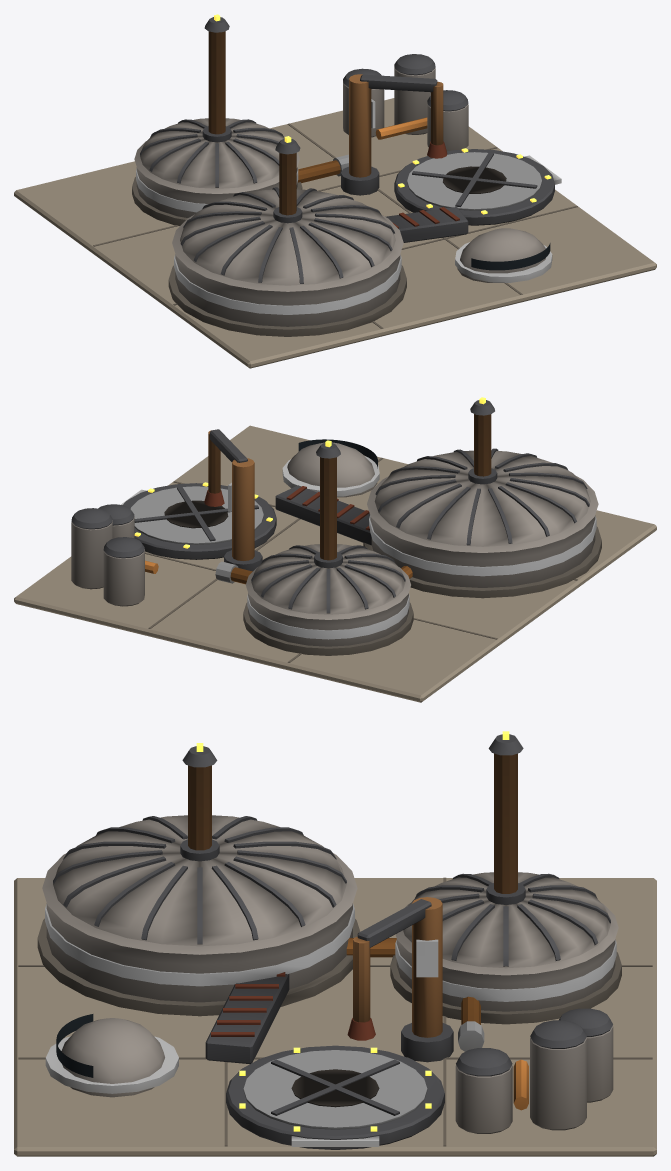
Rendered from HARKONNEN_REFINERY.glb.
3 views of the same model, one above another, from view 1: azimuth 30°, elevation 25°; view 2: azimuth 150°, elevation 25°; view 3: azimuth 270°, elevation 25° (orthographic). The views are drawn at different scales.
Parts seen in each view (by area): view 1: base, tank_main, tank_north, plant, pad, crane; view 2: base, tank_main, tank_north, plant, pad, crane; view 3: base, tank_main, plant, tank_north, pad, crane.
Part boxes in pixels (<box>): base: <box>14,98,656,368</box>; tank_main: <box>168,136,406,336</box>; tank_north: <box>132,14,302,225</box>; plant: <box>297,54,552,282</box>; pad: <box>394,148,561,225</box>; crane: <box>341,74,447,195</box>; base: <box>14,425,656,702</box>; tank_main: <box>363,397,601,598</box>; tank_north: <box>243,440,413,655</box>; plant: <box>71,439,412,606</box>; pad: <box>120,482,276,559</box>; crane: <box>204,429,262,571</box>; base: <box>14,877,656,1156</box>; tank_main: <box>37,743,360,1016</box>; plant: <box>45,938,613,1133</box>; tank_north: <box>390,731,621,1024</box>; pad: <box>226,1045,444,1149</box>; crane: <box>347,897,453,1062</box>.
Size of the model in its own units: 2.98 by 1.45 by 2.94.
